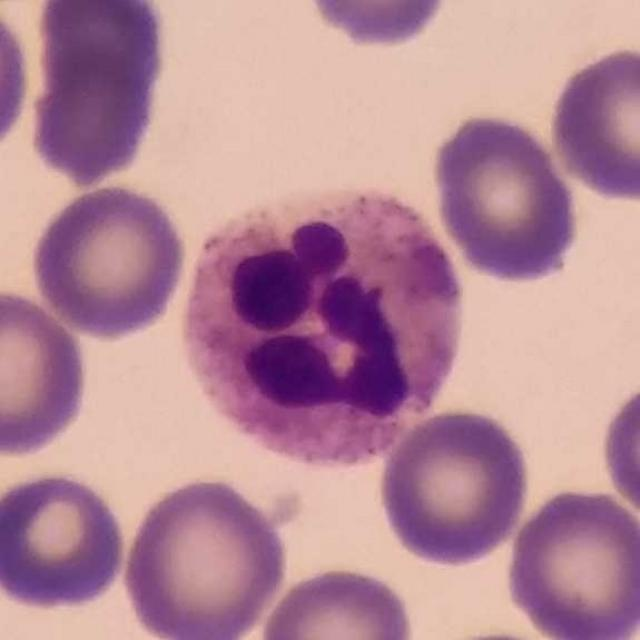Neutrophil: (167, 170, 481, 488)
RBC: (118, 472, 292, 640), (428, 108, 584, 286), (27, 180, 191, 342), (373, 404, 534, 569), (25, 30, 169, 189), (502, 483, 639, 640), (0, 465, 131, 614), (0, 283, 93, 461), (545, 42, 640, 204), (31, 0, 173, 108), (255, 561, 418, 640), (298, 0, 454, 52), (596, 376, 640, 525), (0, 2, 36, 166), (413, 625, 580, 640)
